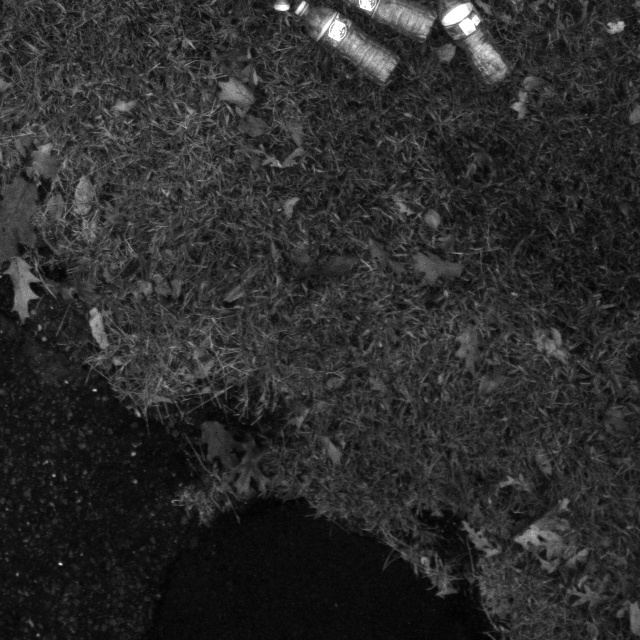bottle: (427, 0, 515, 89), (268, 5, 393, 67)
